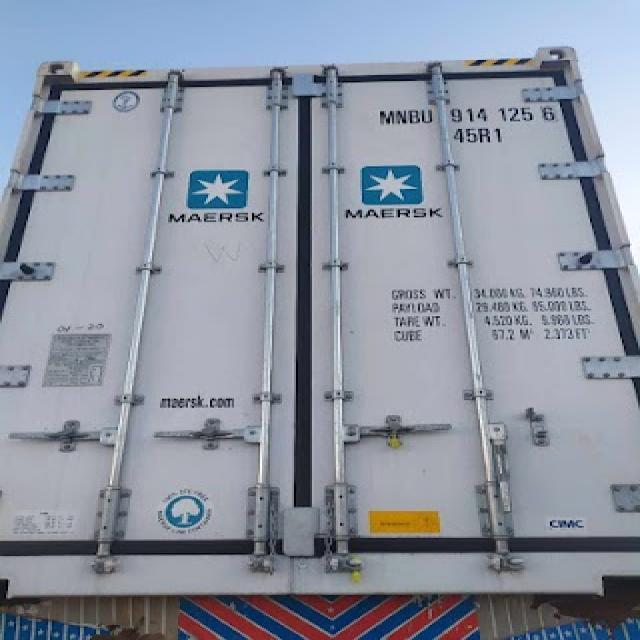ISO: (452, 125, 513, 144)
container_number: (387, 103, 563, 125)
